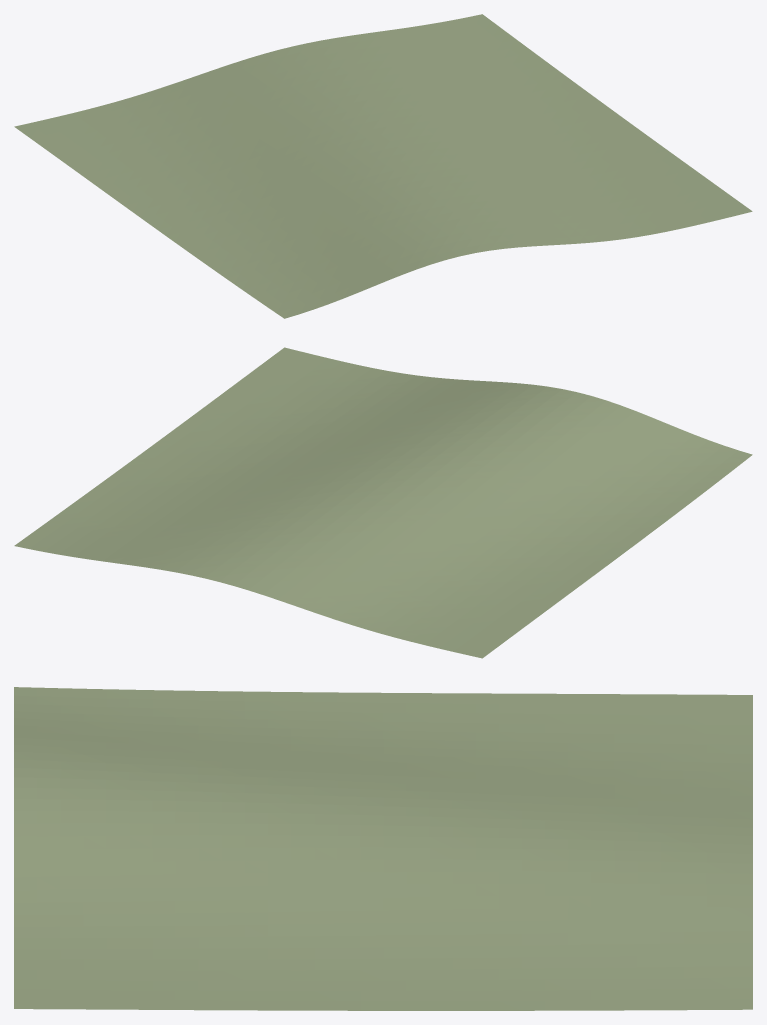
File: desert-10-4.glb
The picture shows the model from 3 angles, top to bottom: view 1: azimuth 30°, elevation 25°; view 2: azimuth 150°, elevation 25°; view 3: azimuth 270°, elevation 25°; orthographic projection. The views are drawn at different scales.
Visible parts, largest first — view 1: desert-10-4; view 2: desert-10-4; view 3: desert-10-4.
Part boxes in pixels (x1,y1,x2,y2): desert-10-4: (14,14,752,318); desert-10-4: (14,347,752,658); desert-10-4: (14,687,752,1010).
Bounding box in the file's own units: 512 × 29.35 × 512.
